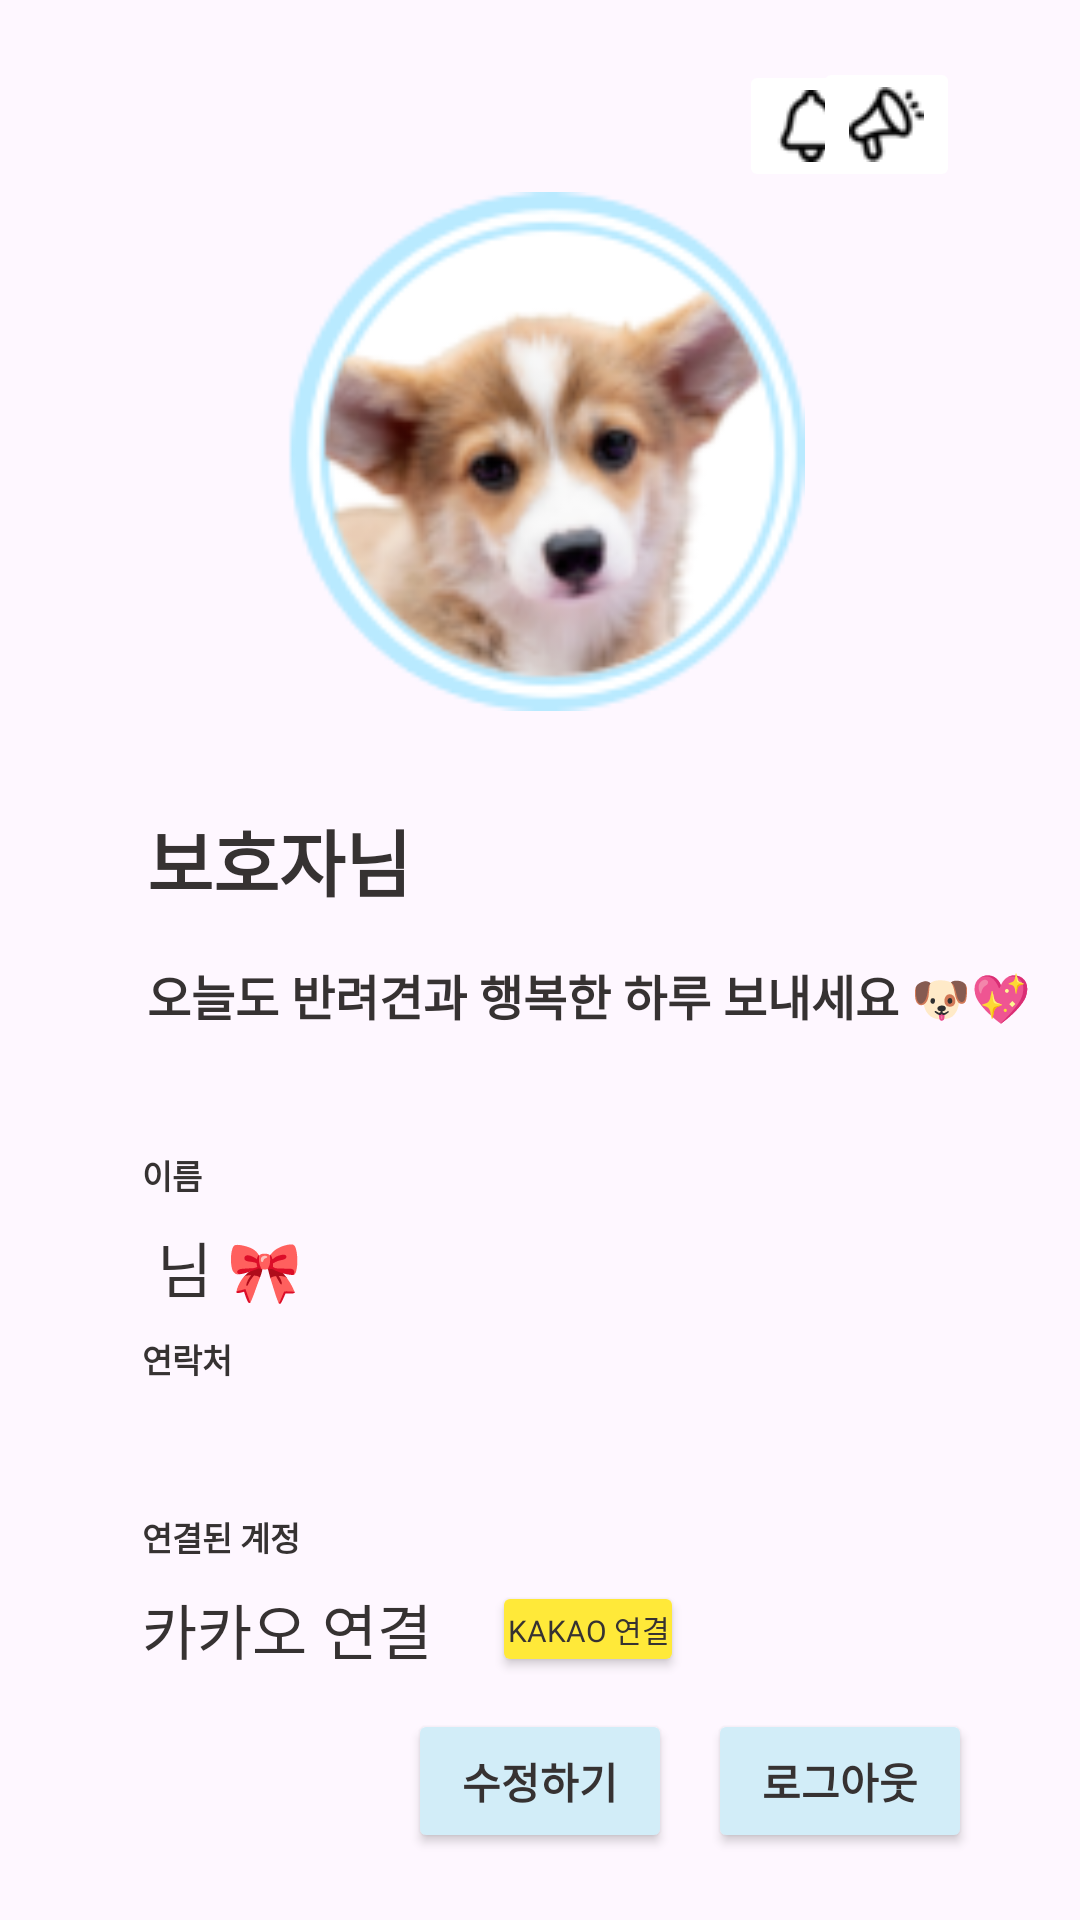

Point at icon controls on the screen. Image size 1080*1920, points as [x,y].
alarm: [802,126]
notice: [886,124]
